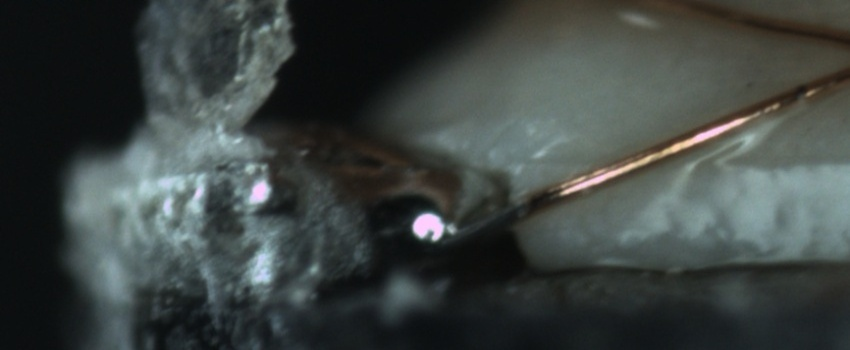TS: (431, 193, 529, 248)
